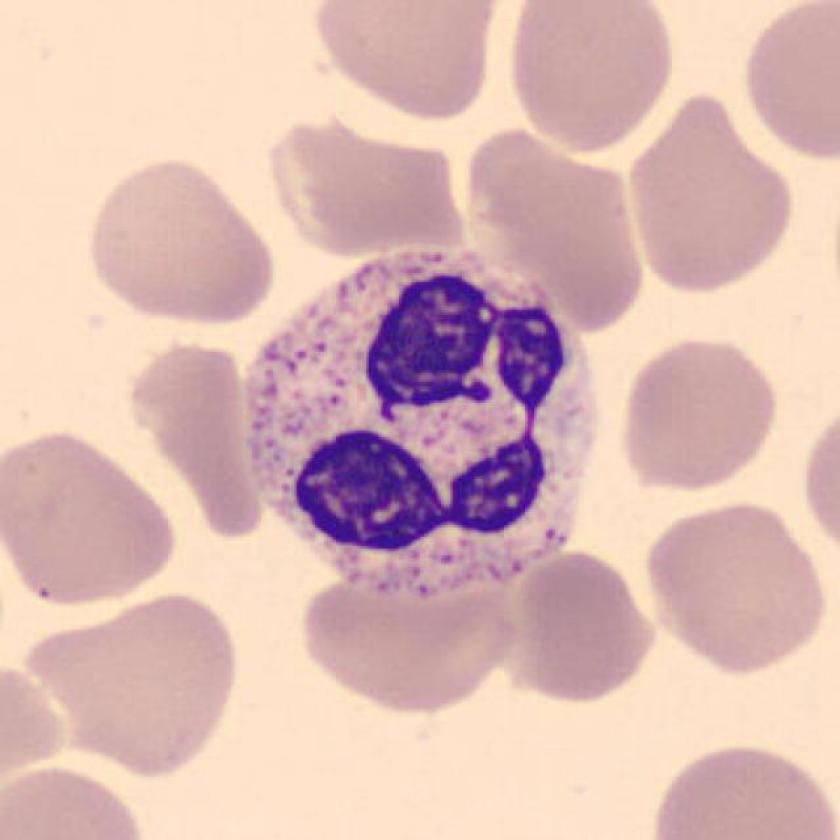neutrophil: (246, 248, 597, 601)
